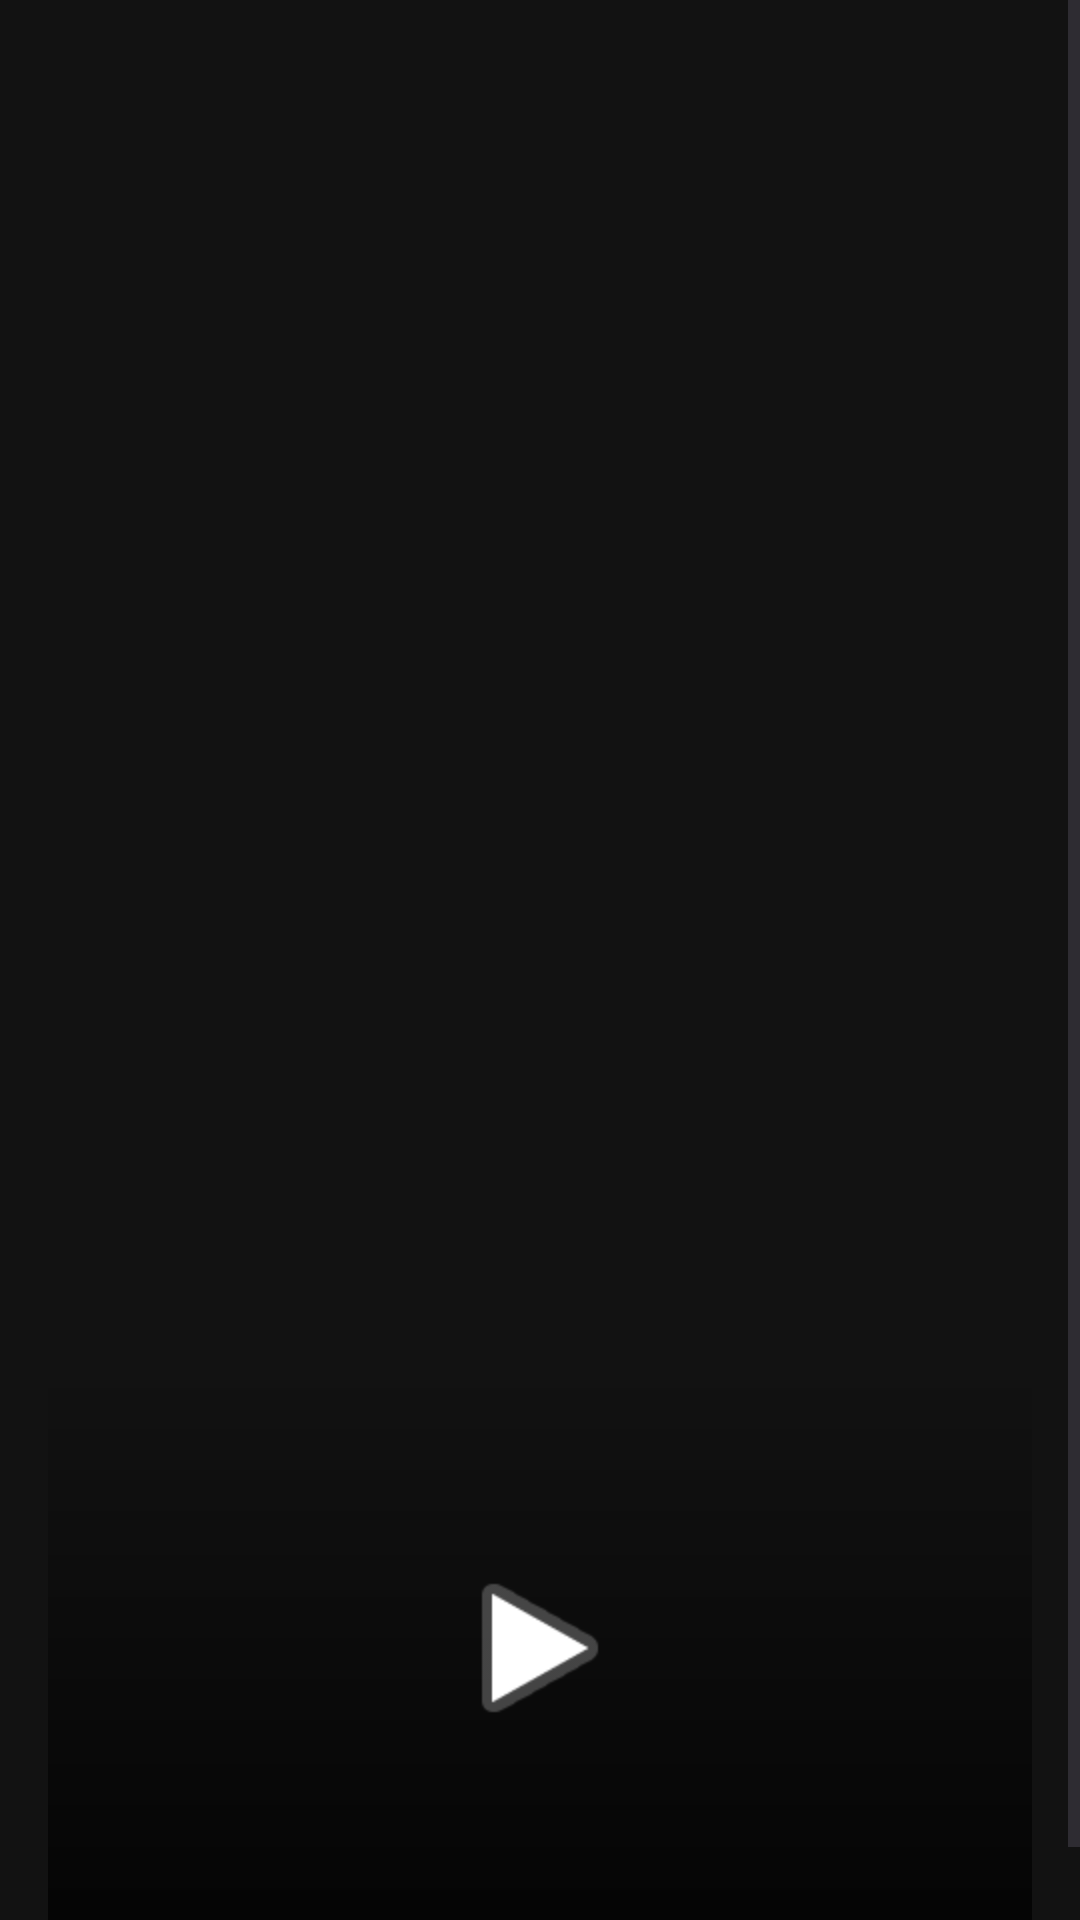

Named icons in this screenshot (1080x1920) and their centers, point (x, y):
play: point (540, 1648)
